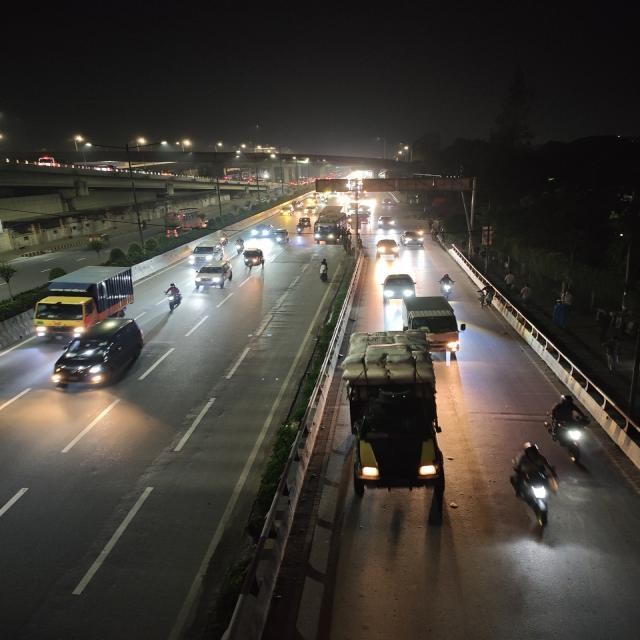bicycle: (474, 285, 497, 309)
bus: (313, 209, 349, 245), (162, 207, 208, 230)
car: (47, 316, 150, 394), (378, 270, 418, 304), (192, 261, 235, 292), (184, 242, 225, 266), (374, 236, 401, 258), (402, 230, 426, 248), (375, 214, 397, 232), (250, 222, 274, 238)
cng: (242, 247, 267, 271), (274, 228, 292, 246), (295, 216, 312, 233), (279, 206, 294, 216)
motorcycle: (508, 438, 561, 530), (542, 392, 596, 468), (159, 281, 184, 313), (436, 272, 458, 302), (218, 230, 231, 247), (233, 236, 245, 254)
pedestrian: (315, 258, 332, 284)
truck: (341, 328, 445, 500), (30, 262, 136, 338), (400, 294, 468, 359)
